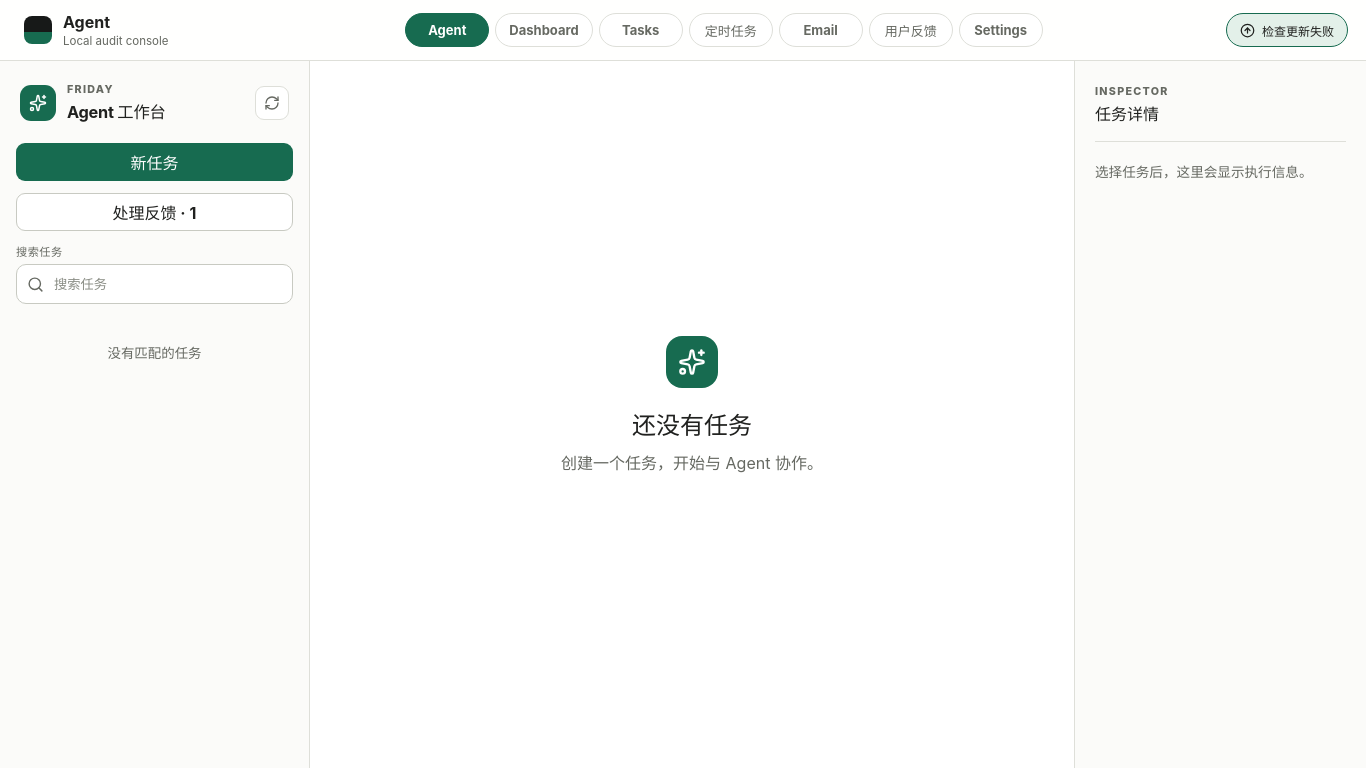
App › imports selected pending feedback into the current workbench conversation
Click the button "处理反馈 · 1". click: (154, 212)
box: [16,193,293,231]
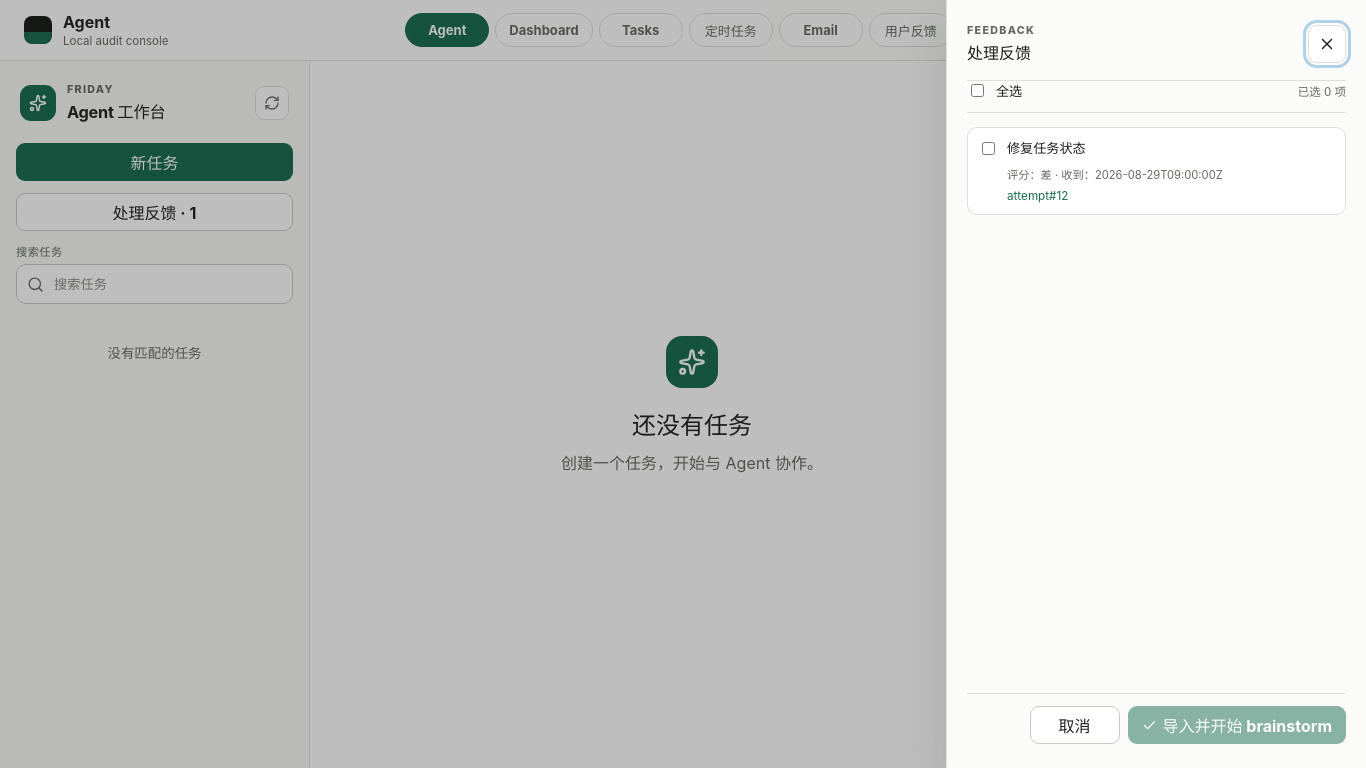
Expected: the text "修复任务状态" is shown, [1007,140,1086,156]
Click the checkbox named "选择反馈 修复任务状态". click: (988, 148)
box: [982,142,995,155]
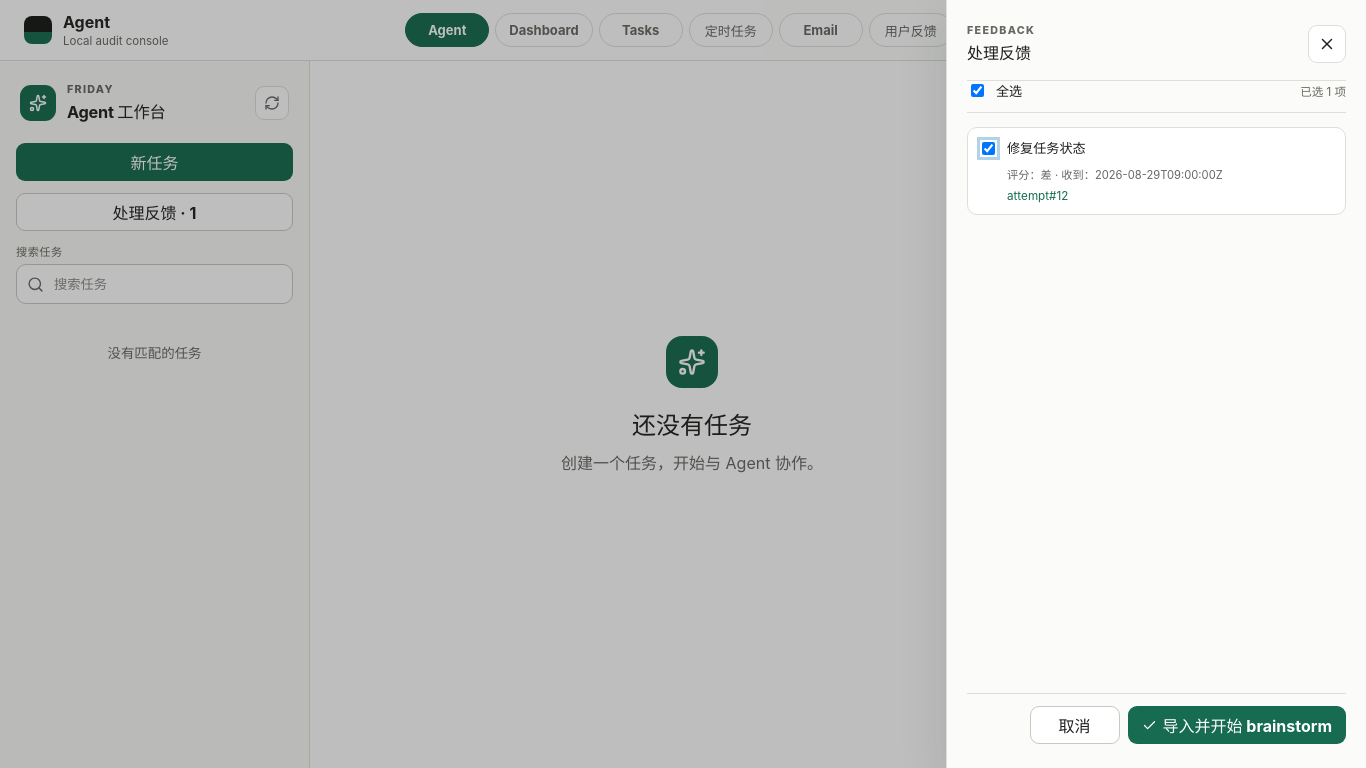
Click the button "导入并开始 brainstorm". click: (1237, 725)
box: [1128,706,1346,744]
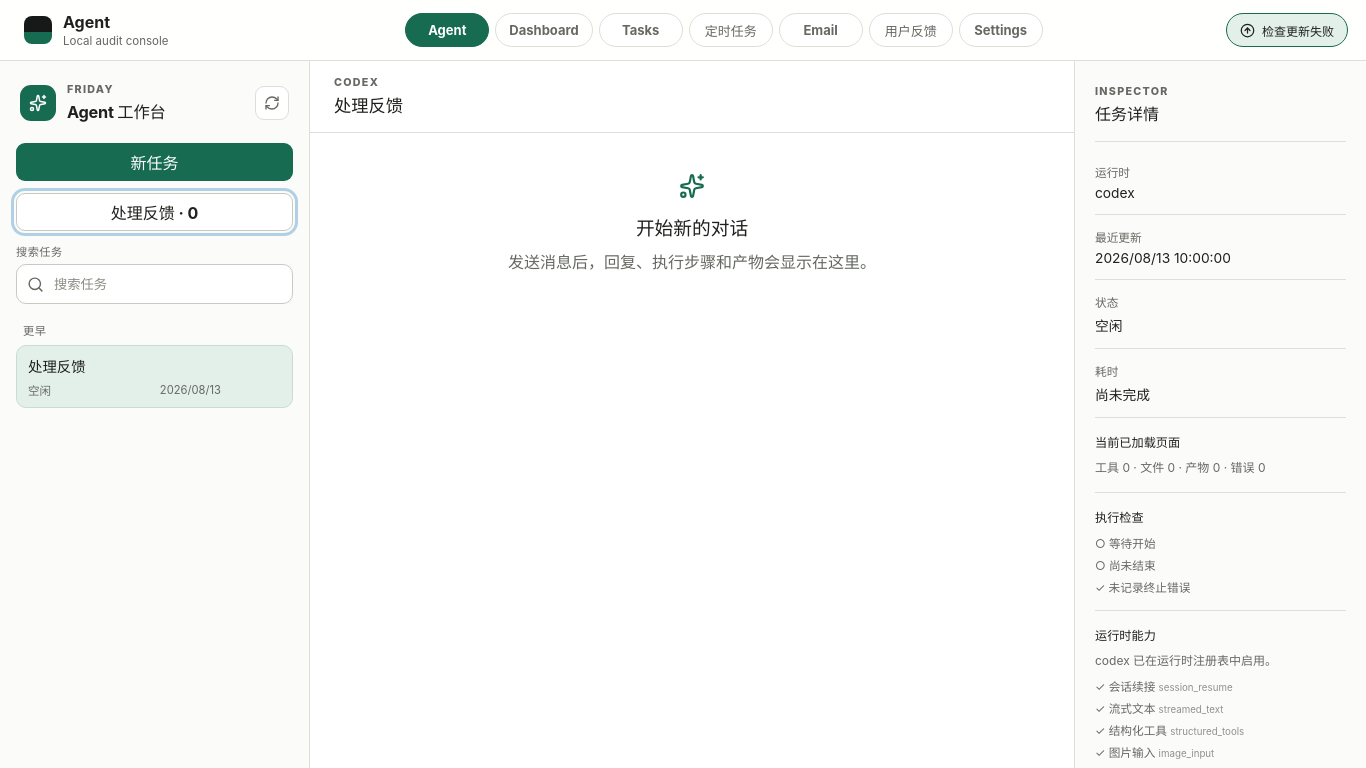
Expected: the heading "处理反馈" is shown, [334,95,403,116]
